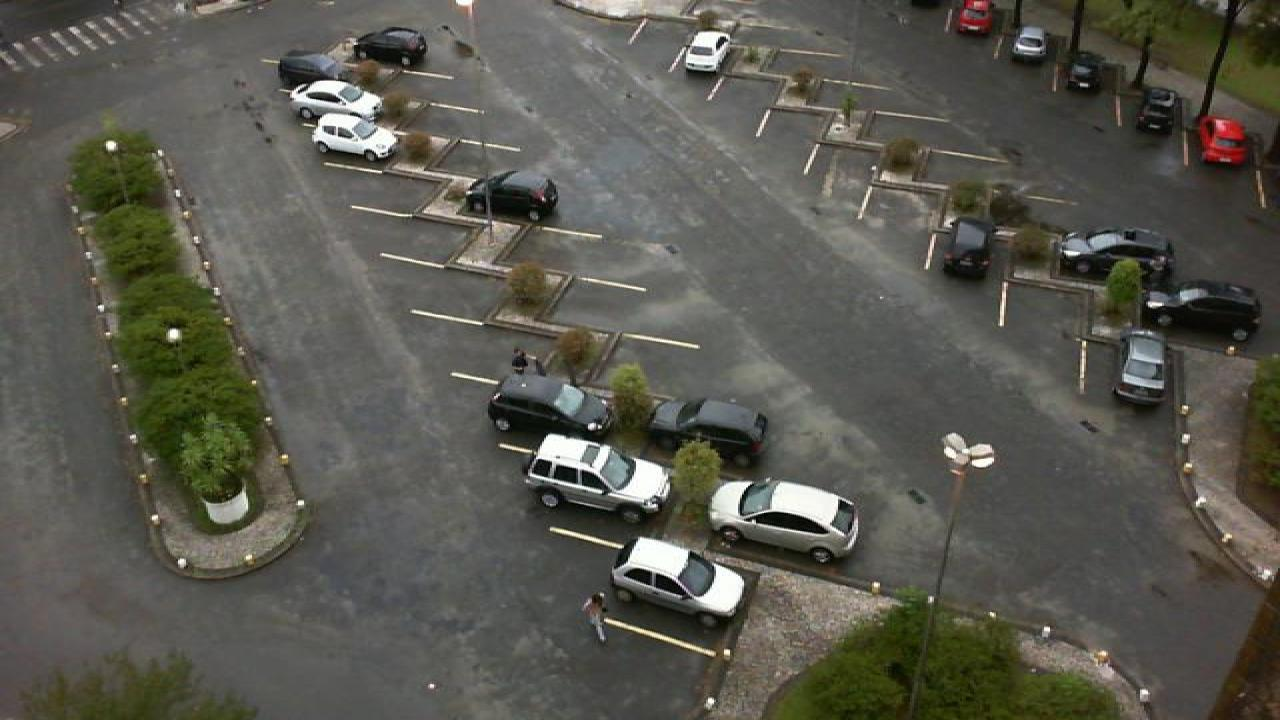Car: (522, 431, 674, 525), (706, 477, 862, 564), (608, 534, 750, 628), (486, 369, 620, 442), (648, 396, 774, 470), (1144, 279, 1262, 342), (1056, 226, 1172, 284), (464, 167, 558, 222), (1110, 328, 1172, 408), (308, 111, 400, 162), (288, 80, 382, 121), (940, 216, 998, 279), (352, 27, 430, 67), (1196, 114, 1250, 168), (276, 50, 346, 86), (680, 30, 734, 76), (1136, 87, 1180, 135), (1060, 50, 1100, 94), (1008, 25, 1050, 65), (956, 0, 994, 33)
